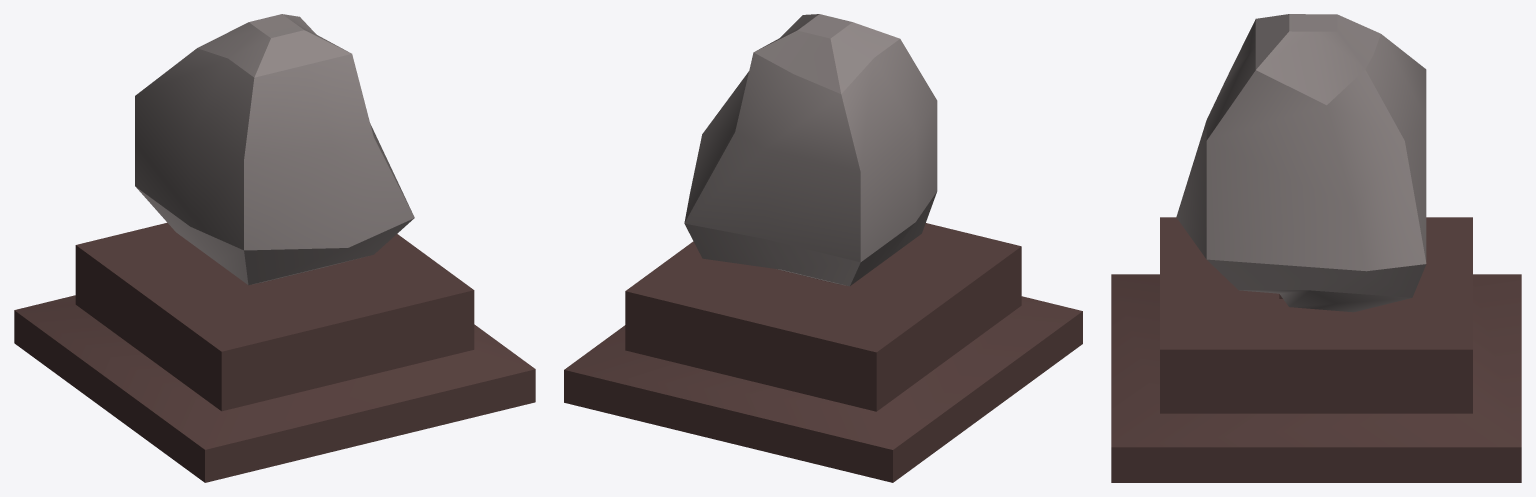
The model's file is 3Dobject_HotRock.fbx.
3 renders of one model, left to right at view 1: azimuth 30°, elevation 25°; view 2: azimuth 150°, elevation 25°; view 3: azimuth 270°, elevation 25°, orthographic. The views are drawn at different scales.
Visible parts, largest first — view 1: pedestal2, hotrock; view 2: pedestal2, hotrock; view 3: pedestal2, hotrock.
Part boxes in pixels (left/top/right/bottom): pedestal2: left=14, top=222, right=535, bottom=482; hotrock: left=135, top=14, right=414, bottom=285; pedestal2: left=564, top=223, right=1082, bottom=482; hotrock: left=684, top=14, right=937, bottom=286; pedestal2: left=1111, top=217, right=1521, bottom=482; hotrock: left=1176, top=14, right=1426, bottom=312.
Bounding box in the file's own units: 1.01 × 1.02 × 1.01.
